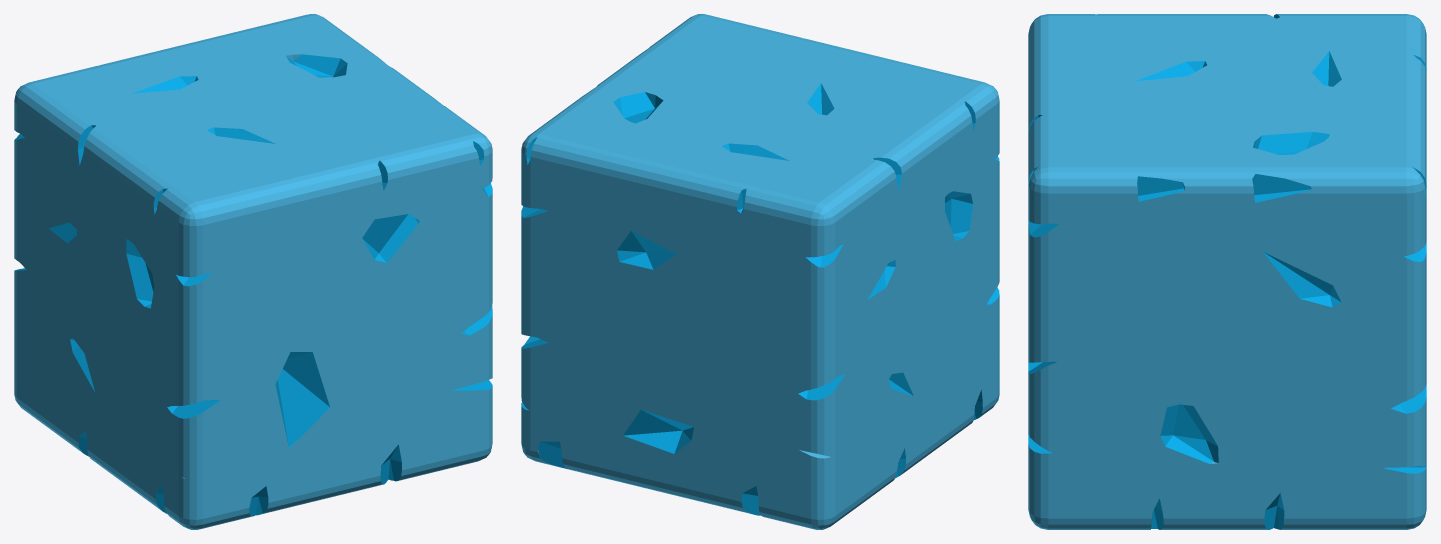
Rendered from obicna sa zaobljenim ivicama i ozilcima 1.fbx.
The picture shows the model from 3 angles, left to right: view 1: azimuth 30°, elevation 25°; view 2: azimuth 150°, elevation 25°; view 3: azimuth 270°, elevation 25°; orthographic projection. The views are drawn at different scales.
Parts seen in each view (by area): view 1: Cube; view 2: Cube; view 3: Cube.
Boxes of the visible parts, bbox=[...] form: Cube: bbox=[14, 14, 492, 529]; Cube: bbox=[521, 14, 999, 529]; Cube: bbox=[1028, 14, 1426, 529].
Bounding box in the file's own units: 200 × 200 × 200.
